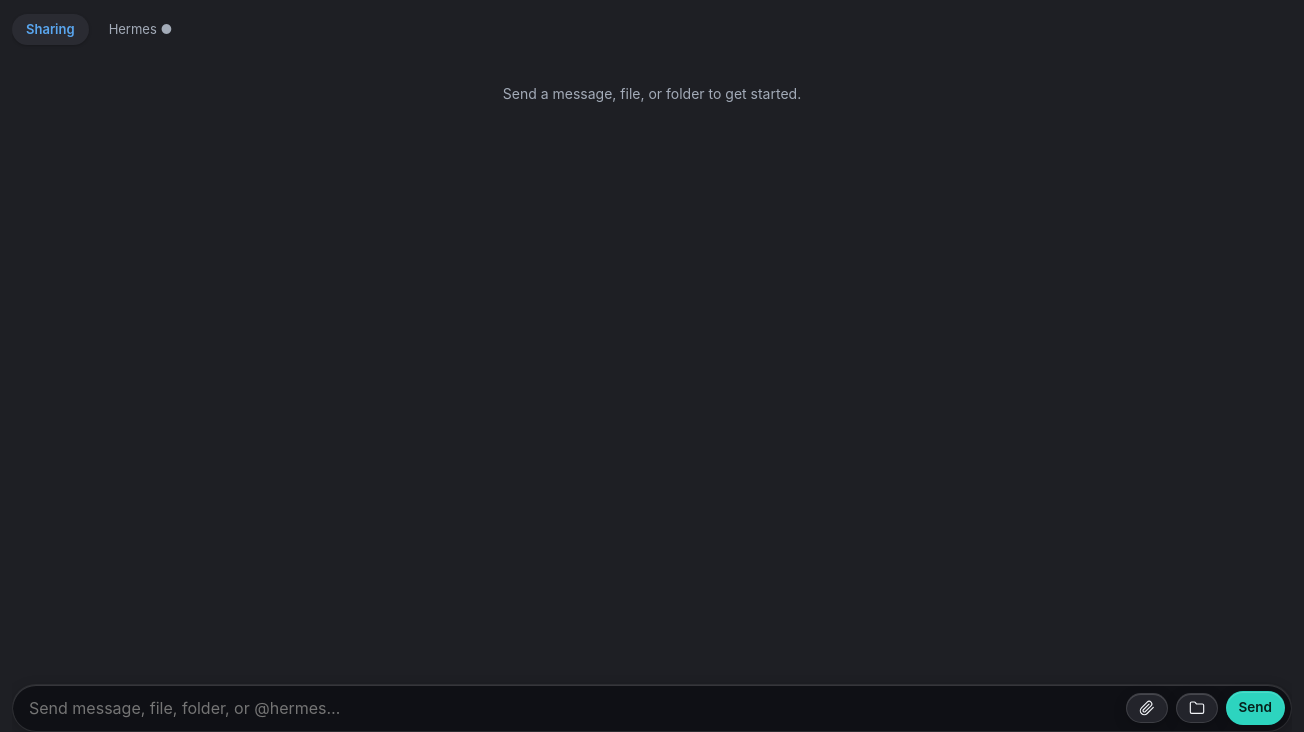
ChatPanel › shows an unread dot on Hermes when bot activity happens while on Sharing, and clears on switch
The width and height of the screenshot is (1304, 732).
# Switching to the Hermes tab clears it.
Click the button "Hermes ●": (140, 30) [95,14,186,45]
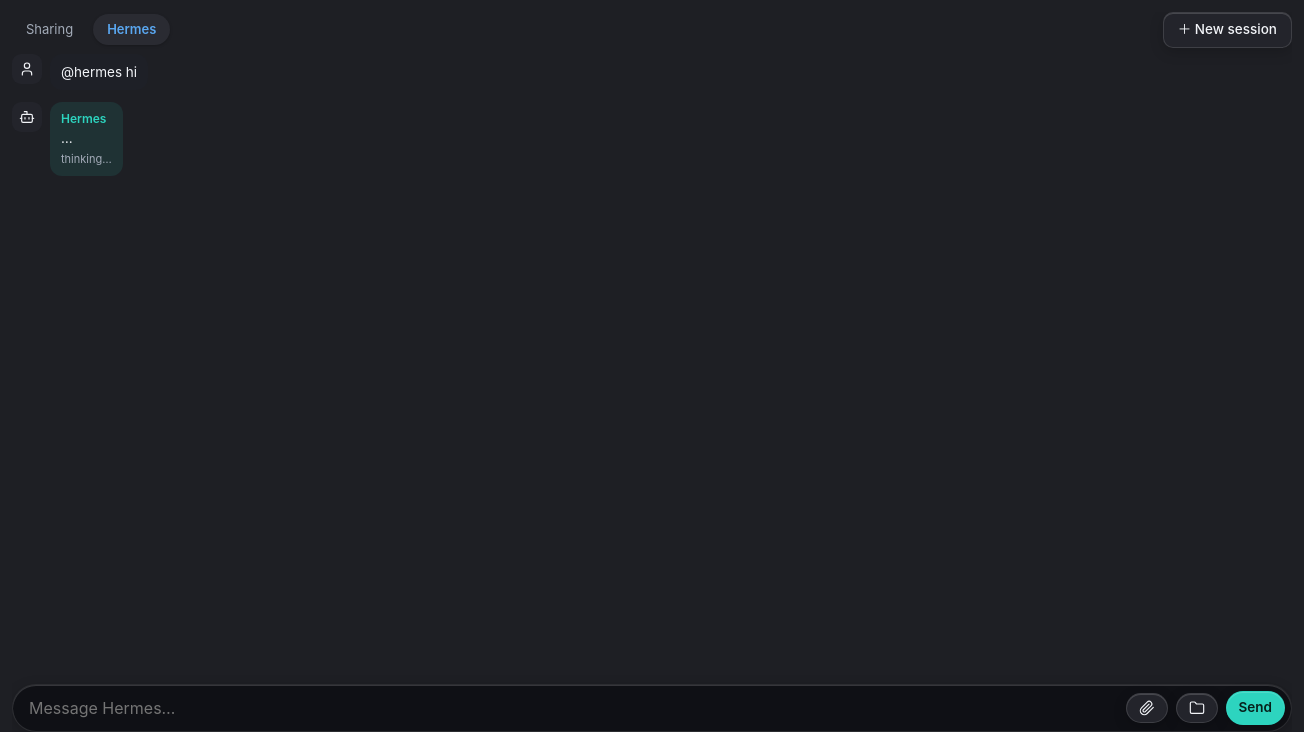
Now the button "●" is gone
